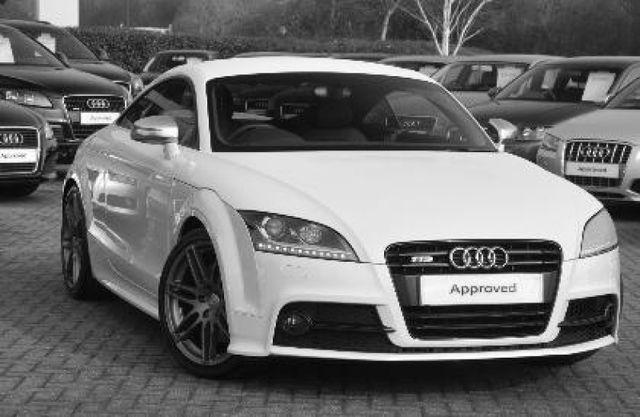car: (58, 46, 630, 387)
